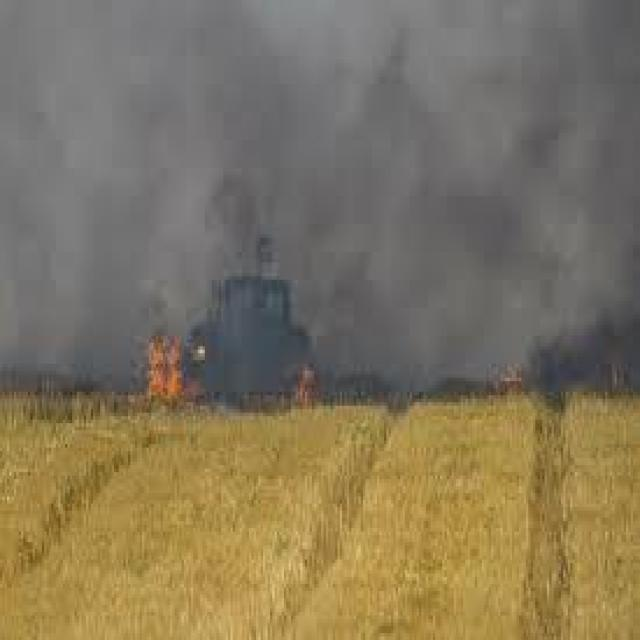Fire: (149, 346, 191, 404), (295, 369, 324, 411)
Smoke: (0, 4, 640, 412)
